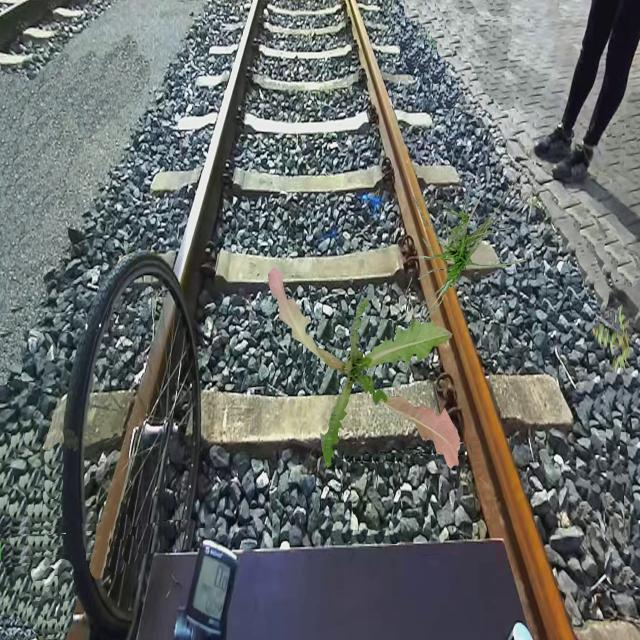Plant: (268, 267, 460, 470), (410, 166, 528, 330), (591, 304, 632, 376)
